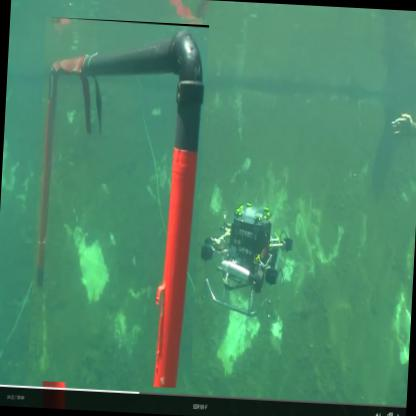gate: (28, 18, 211, 391)
